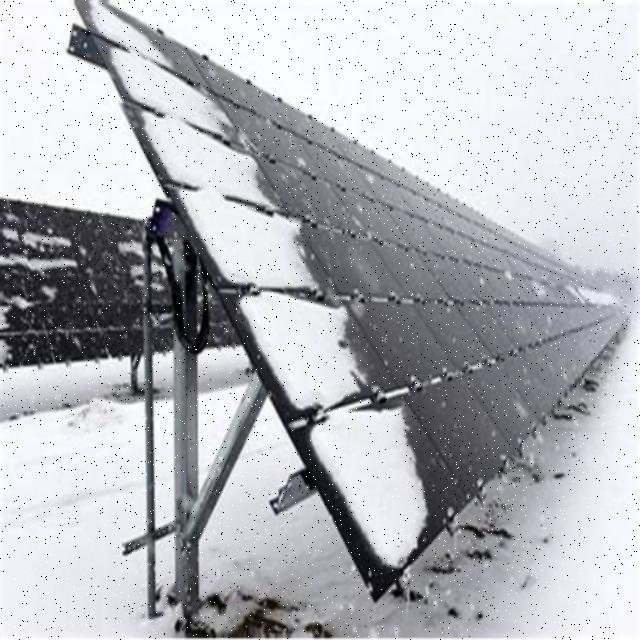snow covered: (87, 4, 465, 569)
